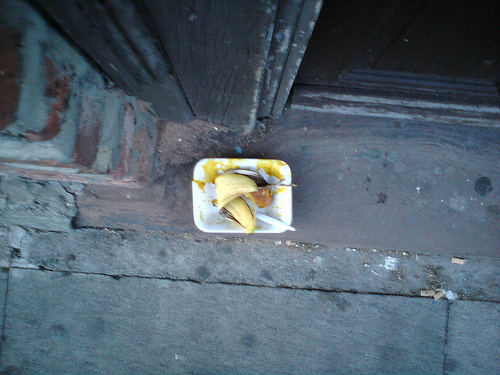litter: (191, 157, 295, 233)
